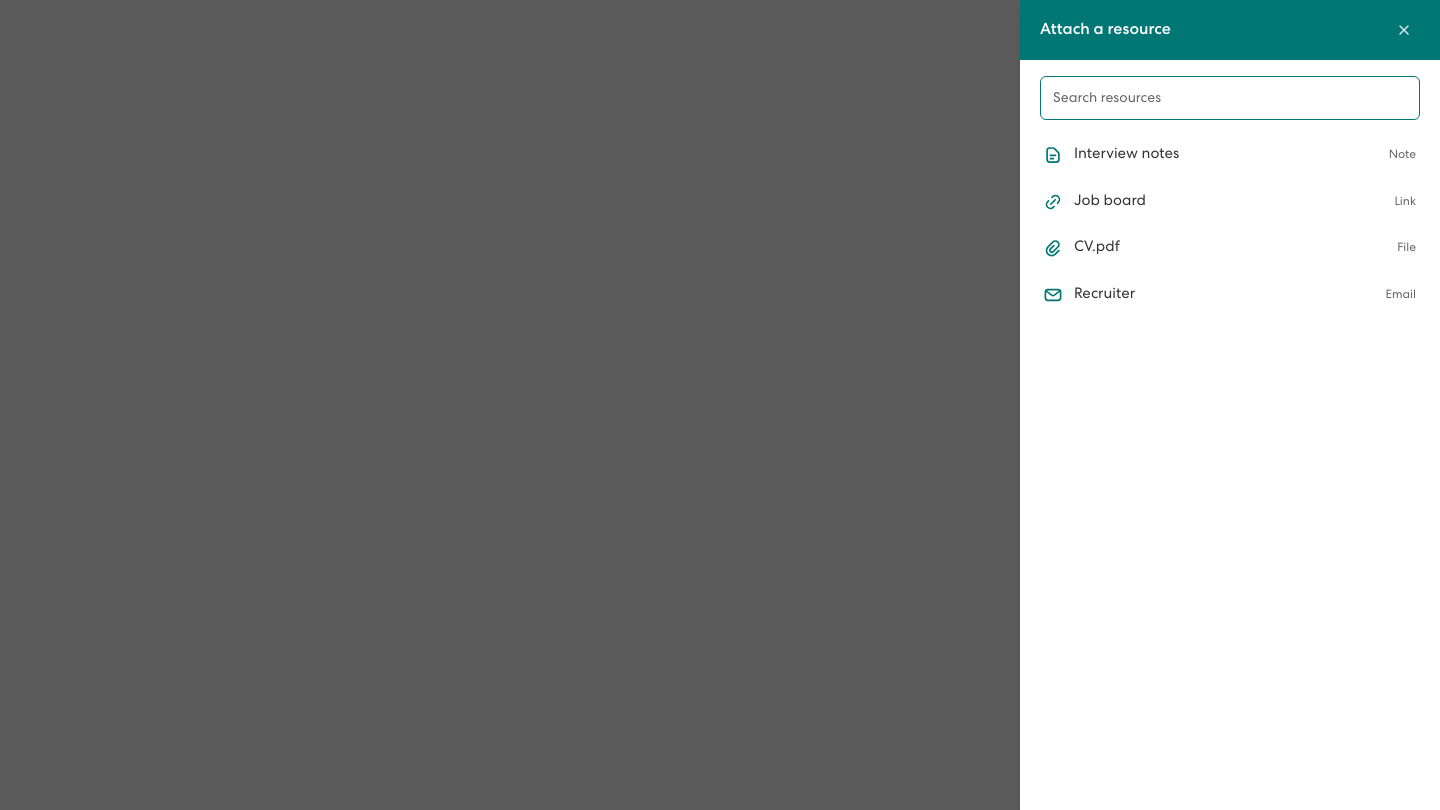
Test: the resource attach sheet › distinguishes 'none at all' from 'none matching'
Type "zzz" into the field labelled "Search resources" at (1230, 98), box [1040,76,1420,120]
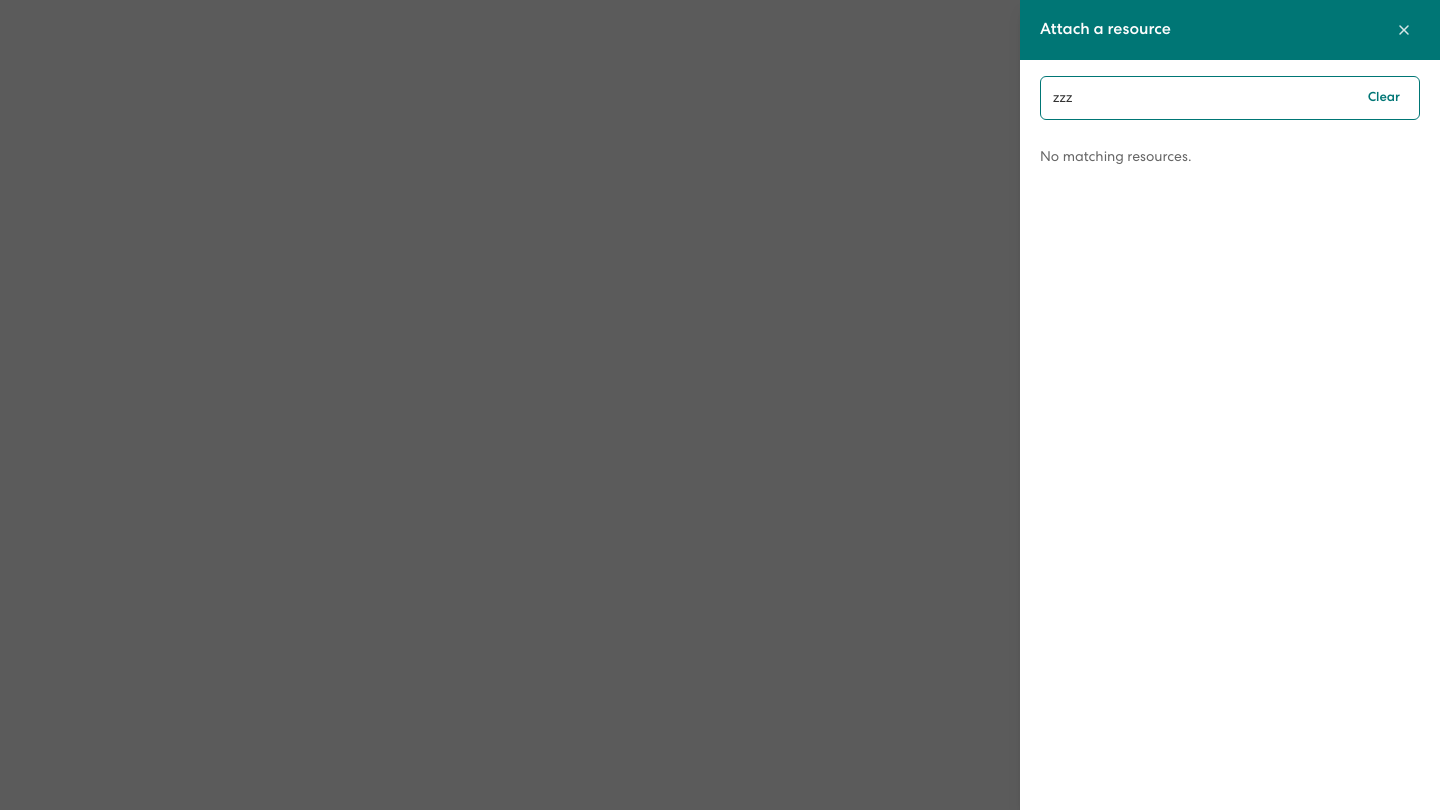
Now the text "No matching resources." is shown, box [1040,150,1192,165]
